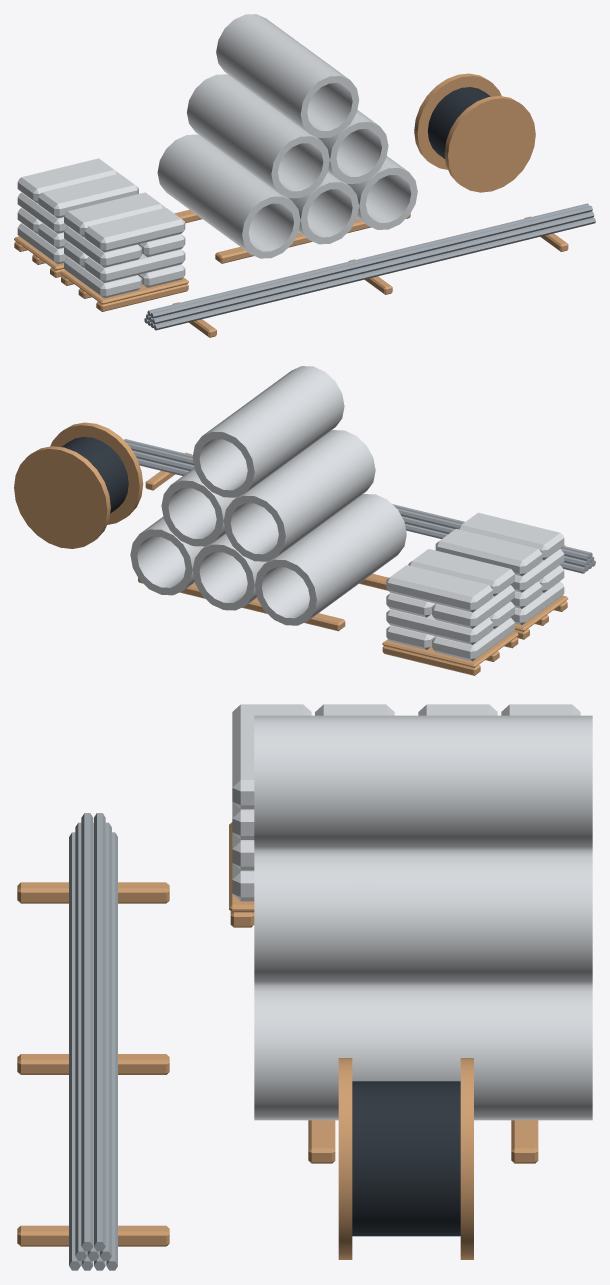
File: PRP_MATERIAL_STORAGE_A_v001.glb
3 views of the same model, one above another, from view 1: azimuth 30°, elevation 25°; view 2: azimuth 150°, elevation 25°; view 3: azimuth 270°, elevation 25° (orthographic). The views are drawn at different scales.
Parts seen in each view (by area): view 1: PRP_MATERIAL_STORAGE_A_PIPES, PRP_MATERIAL_STORAGE_A_BLOCKS, PRP_MATERIAL_STORAGE_A_REBAR, PRP_MATERIAL_STORAGE_A_CABLE; view 2: PRP_MATERIAL_STORAGE_A_PIPES, PRP_MATERIAL_STORAGE_A_BLOCKS, PRP_MATERIAL_STORAGE_A_CABLE, PRP_MATERIAL_STORAGE_A_REBAR; view 3: PRP_MATERIAL_STORAGE_A_PIPES, PRP_MATERIAL_STORAGE_A_REBAR, PRP_MATERIAL_STORAGE_A_CABLE, PRP_MATERIAL_STORAGE_A_BLOCKS.
Boxes of the visible parts, x1,y1,x2,y2 form: PRP_MATERIAL_STORAGE_A_PIPES: (157, 14, 417, 263); PRP_MATERIAL_STORAGE_A_BLOCKS: (14, 158, 188, 311); PRP_MATERIAL_STORAGE_A_REBAR: (144, 203, 595, 337); PRP_MATERIAL_STORAGE_A_CABLE: (414, 73, 535, 192); PRP_MATERIAL_STORAGE_A_PIPES: (130, 366, 406, 631); PRP_MATERIAL_STORAGE_A_BLOCKS: (382, 512, 568, 675); PRP_MATERIAL_STORAGE_A_CABLE: (14, 422, 143, 548); PRP_MATERIAL_STORAGE_A_REBAR: (124, 439, 595, 573); PRP_MATERIAL_STORAGE_A_PIPES: (254, 715, 592, 1163); PRP_MATERIAL_STORAGE_A_REBAR: (17, 813, 169, 1270); PRP_MATERIAL_STORAGE_A_CABLE: (338, 1058, 473, 1259); PRP_MATERIAL_STORAGE_A_BLOCKS: (229, 704, 580, 927).
Size of the model in its own units: 6.3 by 2.29 by 3.4.
